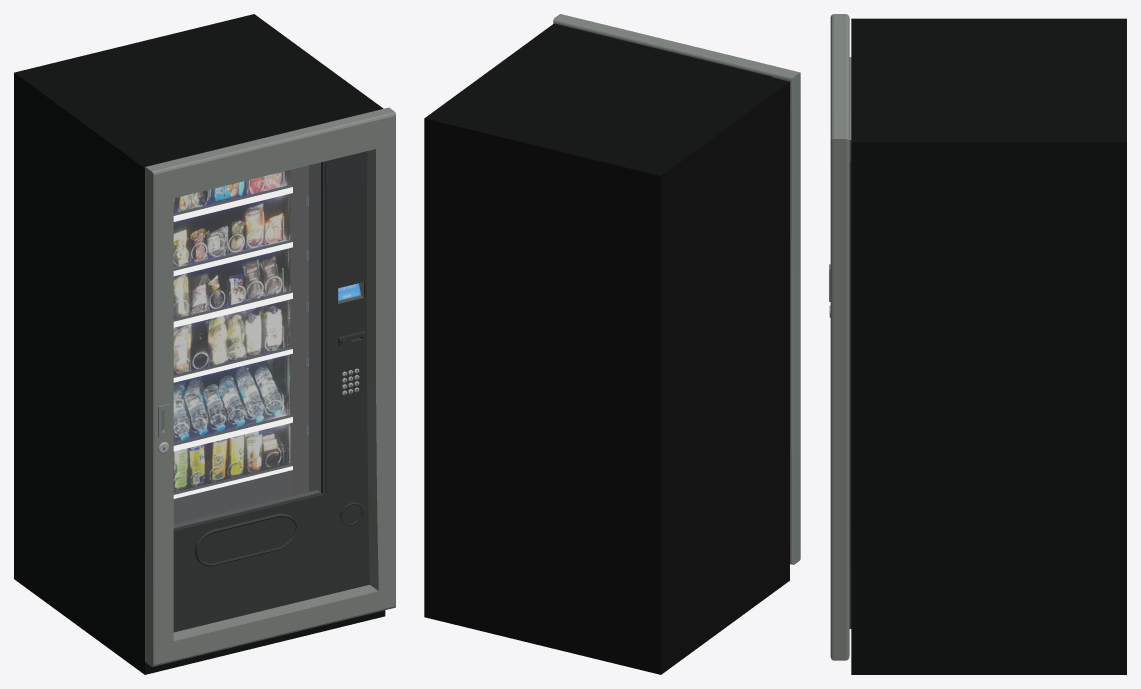
3 views of the same model, side by side, from view 1: azimuth 30°, elevation 25°; view 2: azimuth 150°, elevation 25°; view 3: azimuth 270°, elevation 25° (orthographic). The views are drawn at different scales.
Parts seen in each view (by area): view 1: Vending Machine, Vending Machine.018, Vending Machine.005, Vending Machine.002; view 2: Vending Machine, Vending Machine.018; view 3: Vending Machine, Vending Machine.018.
Part boxes in pixels (x1=…): Vending Machine: x1=14, y1=14, x2=385, y2=674; Vending Machine.018: x1=145, y1=107, x2=395, y2=666; Vending Machine.005: x1=174, y1=163, x2=320, y2=527; Vending Machine.002: x1=197, y1=517, x2=295, y2=563; Vending Machine: x1=424, y1=24, x2=789, y2=674; Vending Machine.018: x1=553, y1=14, x2=800, y2=564; Vending Machine: x1=851, y1=18, x2=1126, y2=674; Vending Machine.018: x1=829, y1=14, x2=851, y2=660.
Bounding box in the file's own units: 100 × 200 × 101.
17 materials, 2 textured.
